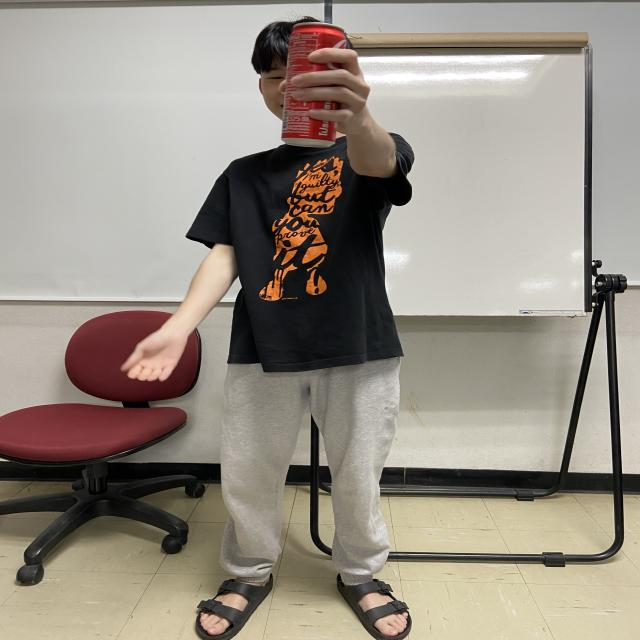can: (280, 19, 348, 149)
